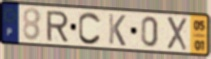0: (140, 15, 161, 49)
8: (22, 7, 43, 43)
C: (77, 11, 102, 46)
K: (107, 12, 127, 48)
R: (46, 10, 70, 43)
X: (165, 15, 189, 52)
